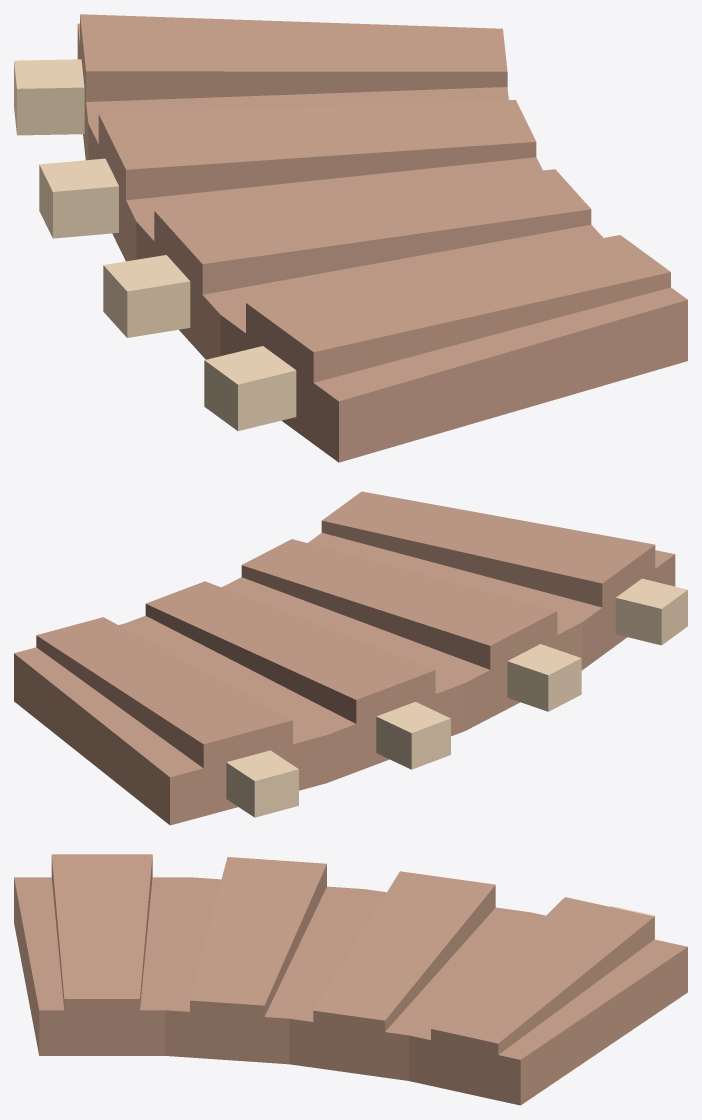
The model's file is meat_ribs.glb.
3 renders of one model, top to bottom at view 1: azimuth 30°, elevation 25°; view 2: azimuth 150°, elevation 25°; view 3: azimuth 270°, elevation 25°, orthographic. The views are drawn at different scales.
Parts seen in each view (by area): view 1: meatRibs; view 2: meatRibs; view 3: meatRibs.
Part boxes in pixels (x1=…): meatRibs: x1=14, y1=14, x2=687, y2=462; meatRibs: x1=14, y1=491, x2=687, y2=825; meatRibs: x1=14, y1=854, x2=687, y2=1105.
Bounding box in the file's own units: 0.3834 × 0.06 × 0.5354.
